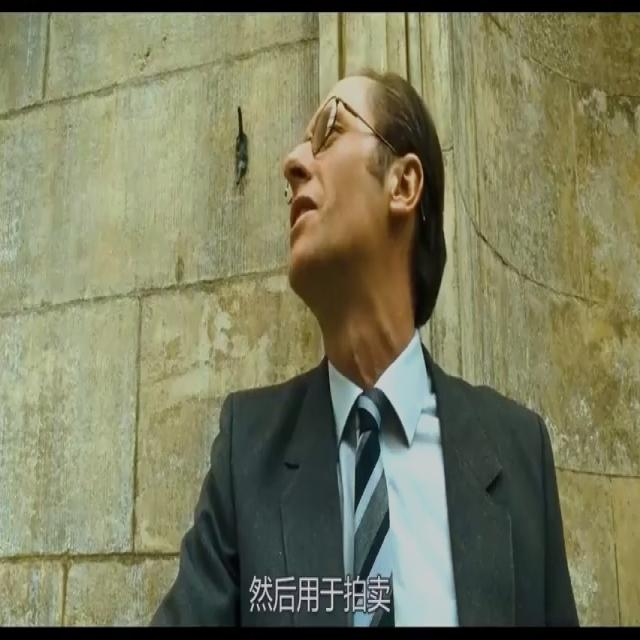non-fight: (136, 53, 587, 628)
